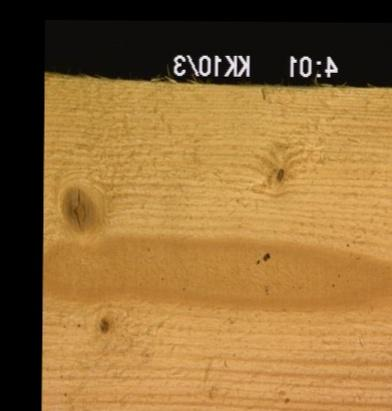small_knot: (93, 310, 113, 337), (270, 162, 287, 184)
sound_knot: (53, 183, 102, 232)
